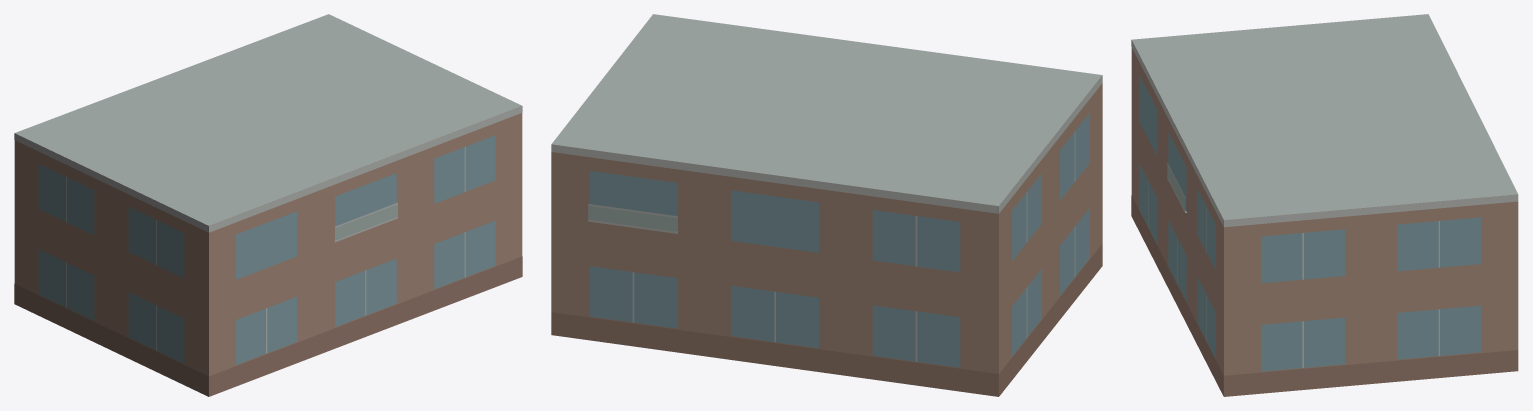
File: survey-upis-32708060.glb
3 views of the same model, side by side, from view 1: azimuth 30°, elevation 25°; view 2: azimuth 150°, elevation 25°; view 3: azimuth 270°, elevation 25° (orthographic). The views are drawn at different scales.
Visible parts, largest first — view 1: survey-upis-32708060.tmp; view 2: survey-upis-32708060.tmp; view 3: survey-upis-32708060.tmp.
Part boxes in pixels (x1,y1,x2,y2): survey-upis-32708060.tmp: [14, 14, 522, 396]; survey-upis-32708060.tmp: [551, 14, 1102, 396]; survey-upis-32708060.tmp: [1131, 14, 1518, 396].
Bounding box in the file's own units: 15.28 × 6.1 × 12.12.
